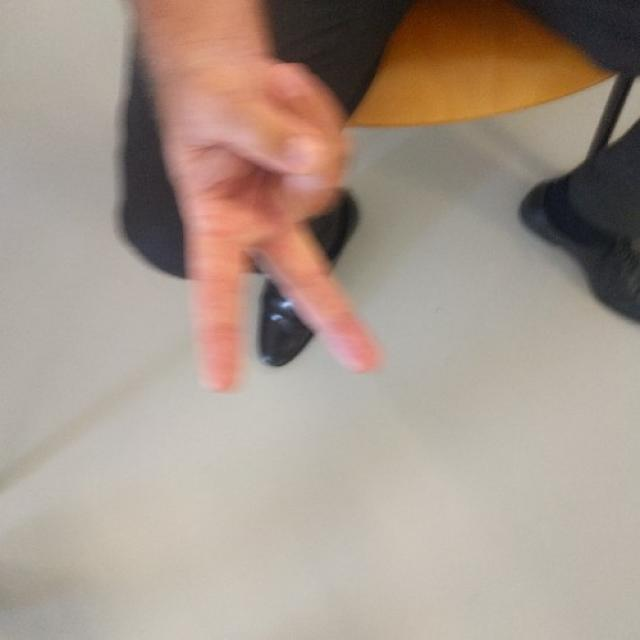scissors: (146, 54, 384, 391)
